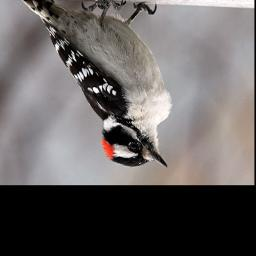Woodpecker: (23, 0, 173, 167)
